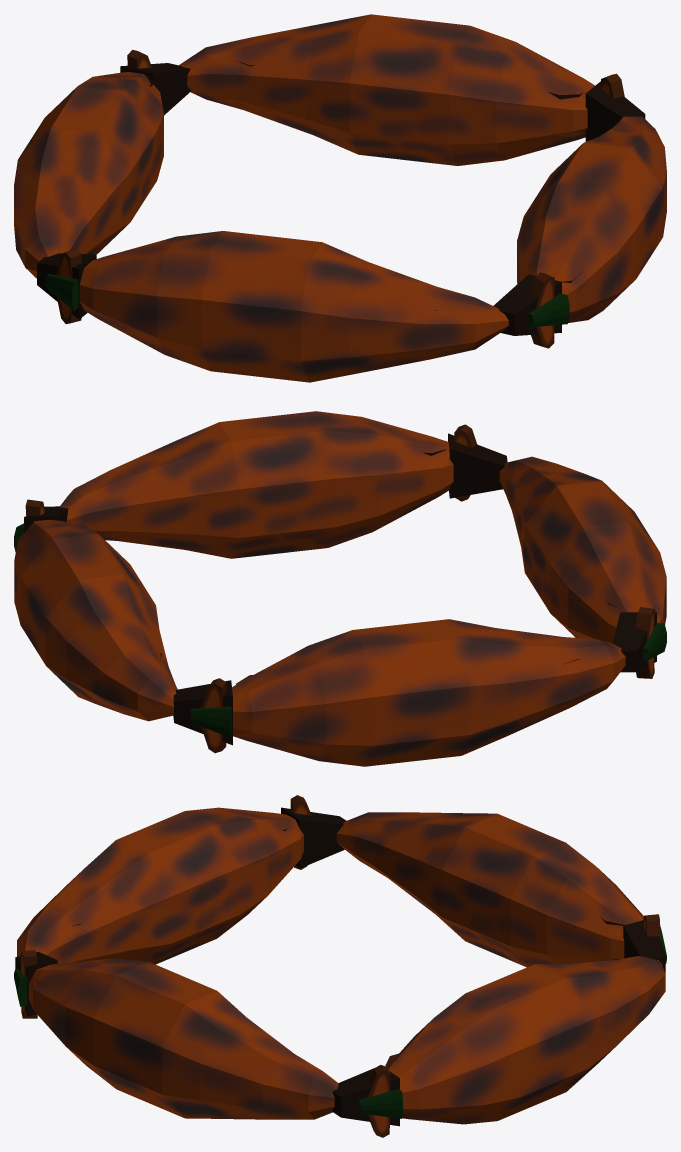
Rendered from argola.fbx.
3 views of the same model, one above another, from view 1: azimuth 30°, elevation 25°; view 2: azimuth 150°, elevation 25°; view 3: azimuth 270°, elevation 25° (orthographic). The views are drawn at different scales.
Visible parts, largest first — view 1: Cylinder.002; view 2: Cylinder.002; view 3: Cylinder.002.
Boxes of the visible parts, x1,y1,x2,y2 form: Cylinder.002: (14, 14, 666, 382); Cylinder.002: (14, 411, 666, 766); Cylinder.002: (14, 795, 666, 1137).
Size of the model in its own units: 995 by 195 by 974.
